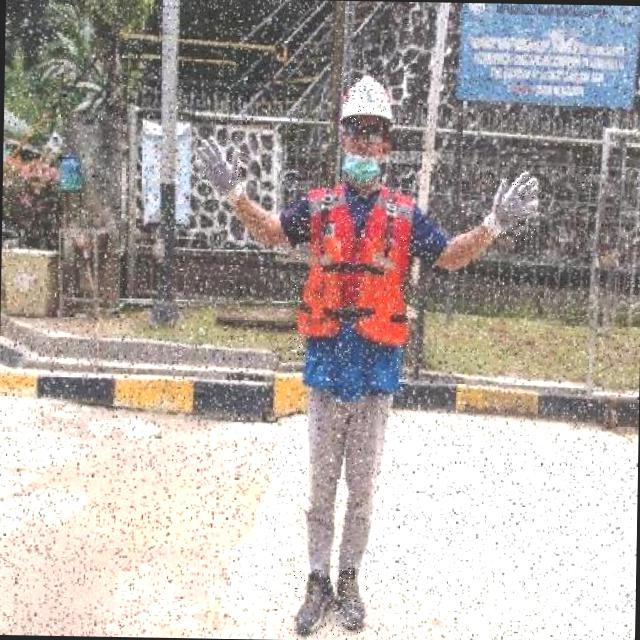boots: (292, 570, 336, 640), (333, 567, 368, 634)
gloves: (448, 148, 568, 261), (174, 131, 264, 216)
helmet: (339, 74, 392, 124)
vest: (286, 173, 411, 391)
